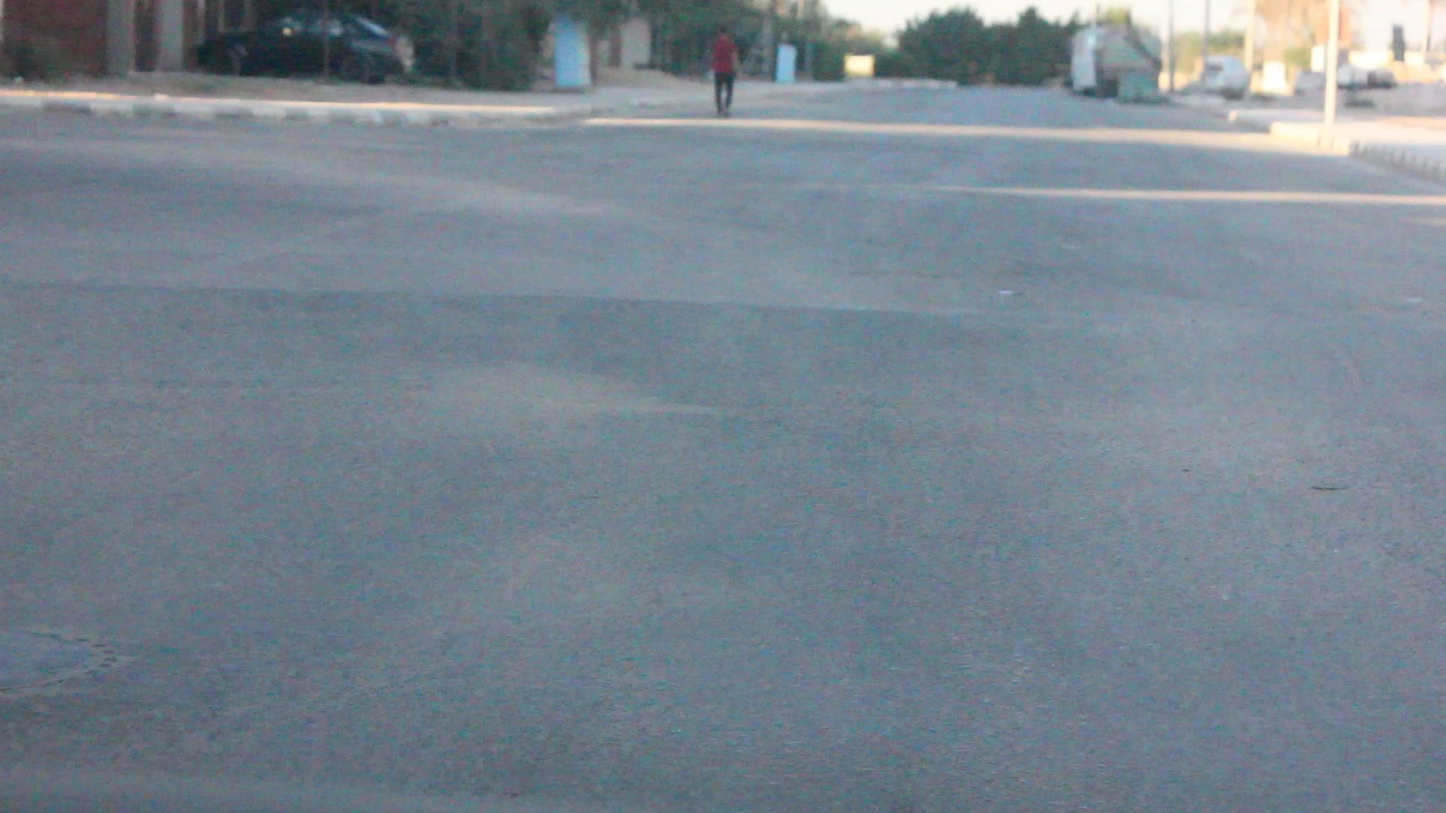Bump: (0, 271, 1446, 422)
